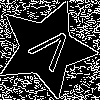V: (21, 24, 77, 80)
